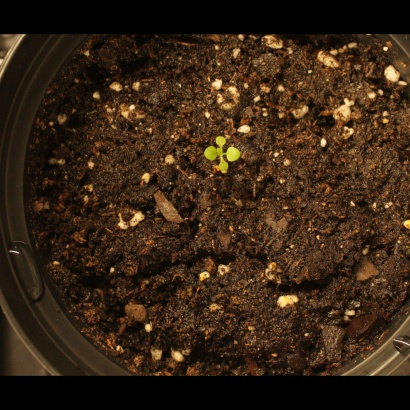leaf: (227, 139, 250, 162), (194, 145, 217, 168), (212, 156, 235, 179), (212, 131, 235, 154)
